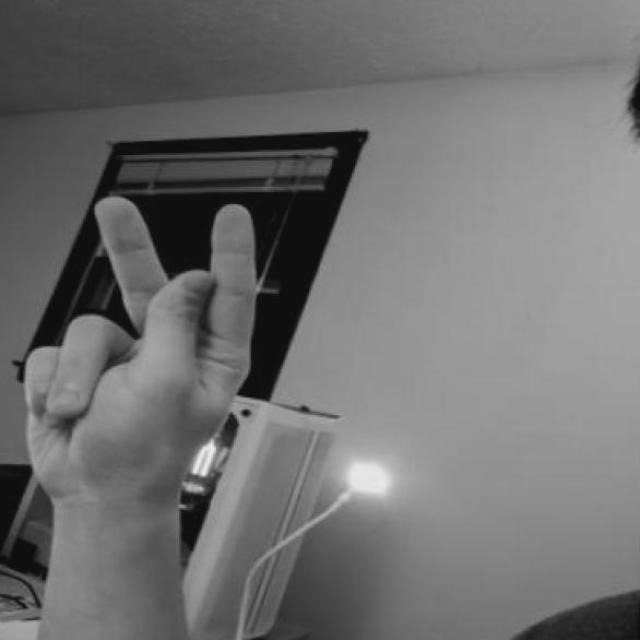K: (14, 186, 260, 538)
